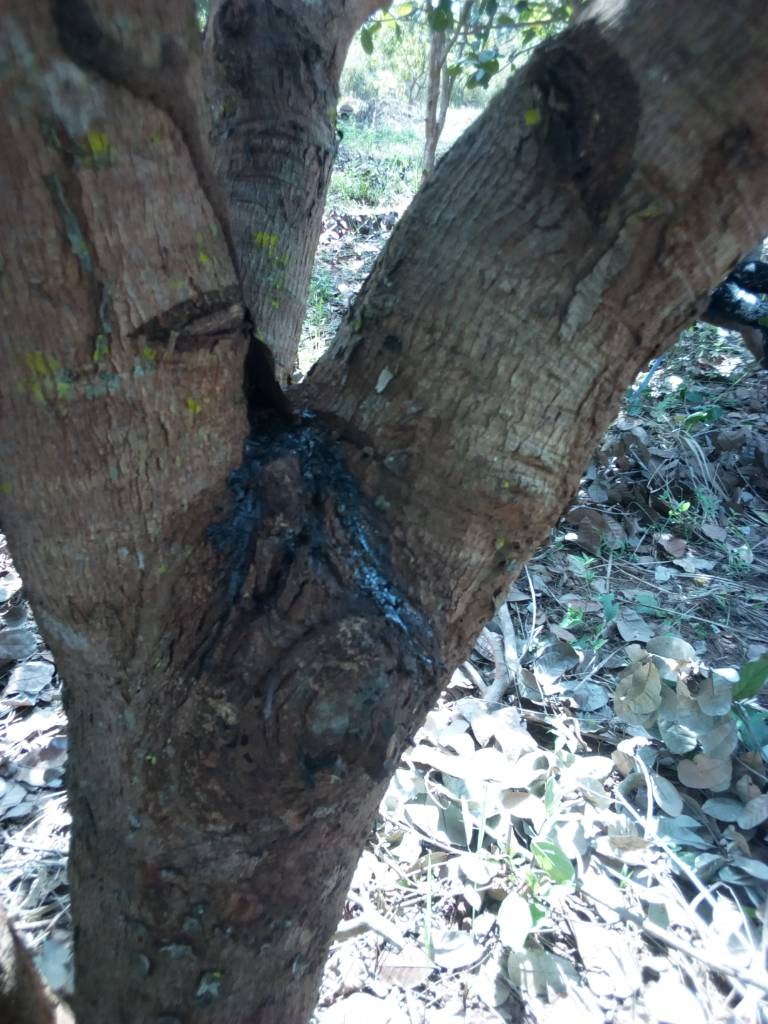Gommose: (224, 425, 438, 757)
